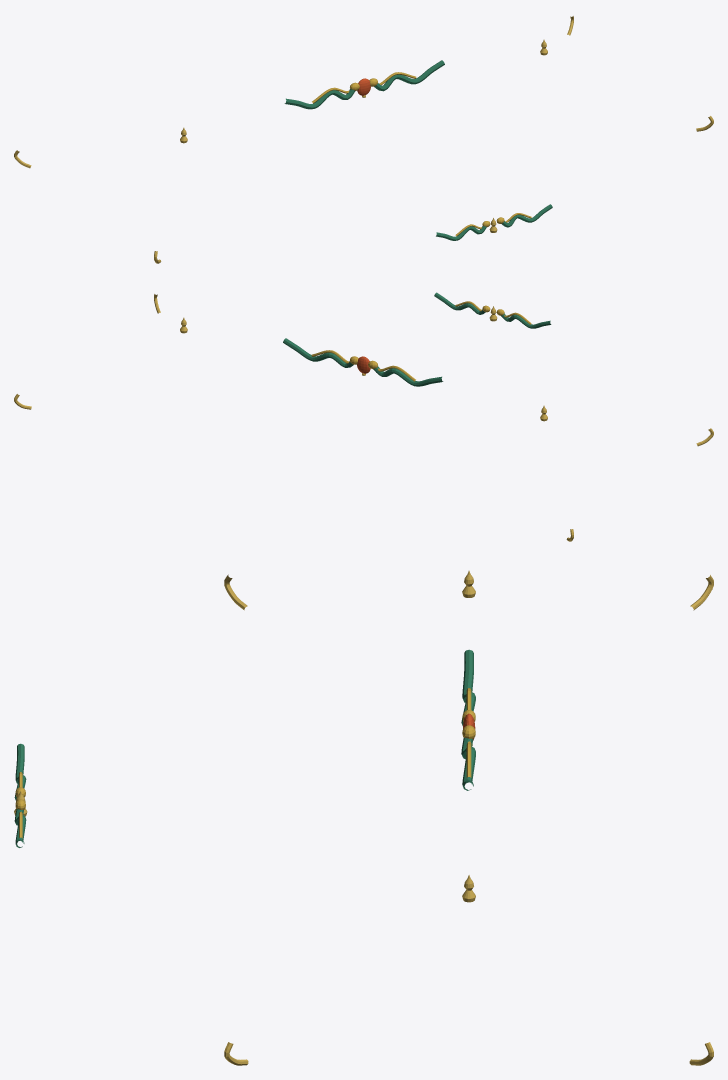
Rendered from canchanh-hero.glb.
The picture shows the model from 3 angles, top to bottom: view 1: azimuth 30°, elevation 25°; view 2: azimuth 150°, elevation 25°; view 3: azimuth 270°, elevation 25°; orthographic projection. The views are drawn at different scales.
Parts seen in each view (by area): view 1: canchanh_hero_ornaments; view 2: canchanh_hero_ornaments; view 3: canchanh_hero_ornaments.
Boxes of the visible parts, x1,y1,x2,y2 form: canchanh_hero_ornaments: [14, 16, 713, 263]; canchanh_hero_ornaments: [14, 292, 713, 541]; canchanh_hero_ornaments: [14, 570, 713, 1065].
Bounding box in the file's own units: 36.66 × 4.45 × 22.95.
